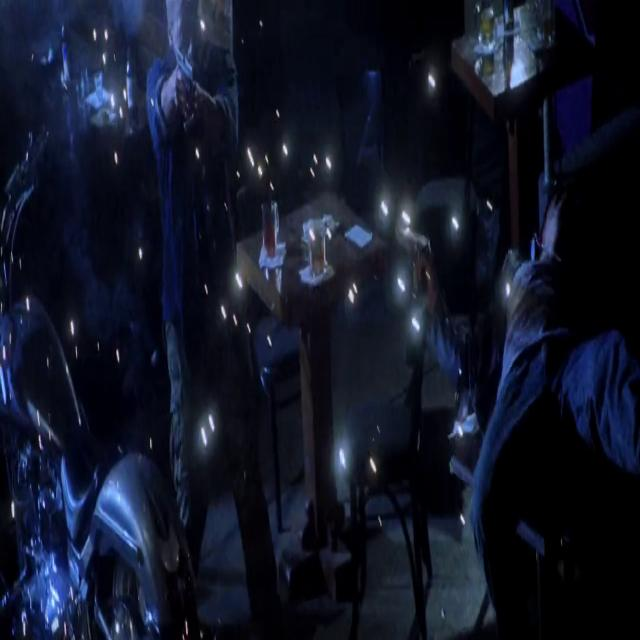Cup: (304, 209, 330, 290), (260, 196, 279, 274)
Motorbike: (0, 177, 190, 640)
People: (491, 181, 633, 613), (152, 0, 237, 620)
Table: (243, 151, 379, 629), (451, 0, 633, 148)
chair: (361, 308, 449, 634)
